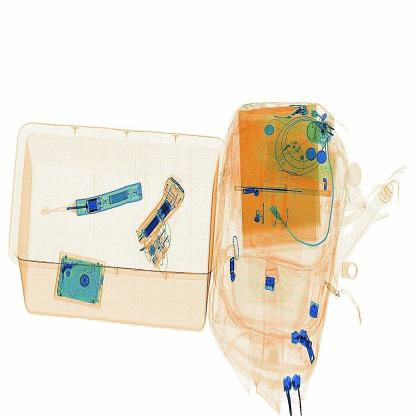wrench: (228, 175, 344, 206)
